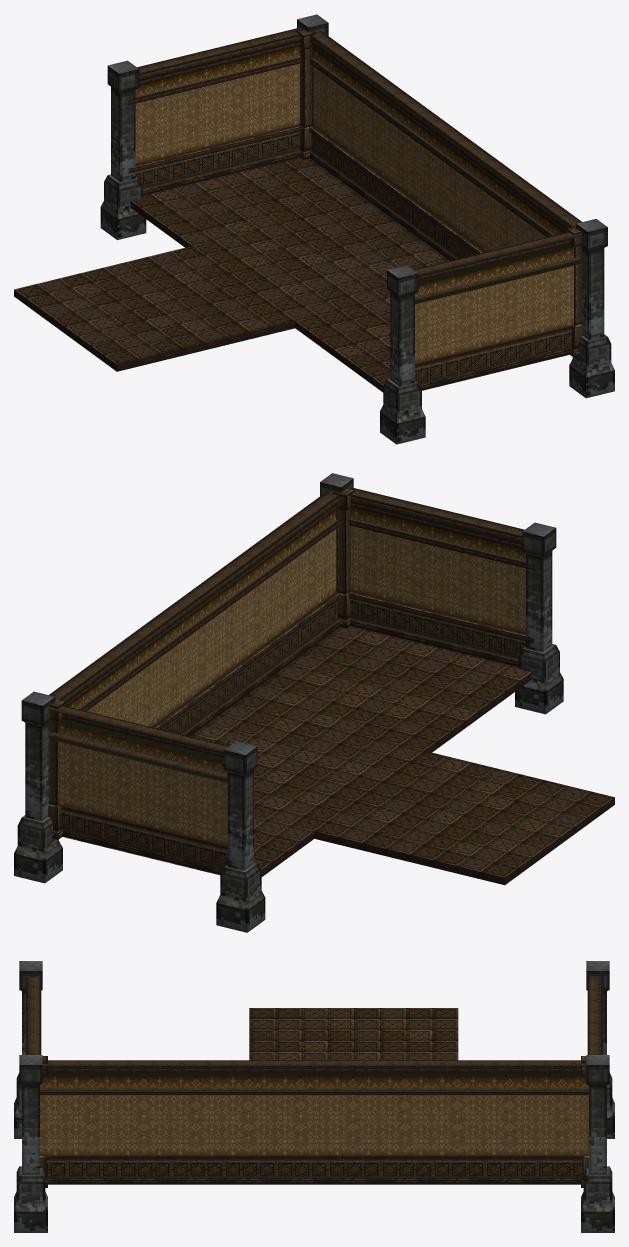
Rendered from EnvBdgMD_Snow_Mansion_A_Indoor_B.FBX.
3 renders of one model, top to bottom at view 1: azimuth 30°, elevation 25°; view 2: azimuth 150°, elevation 25°; view 3: azimuth 270°, elevation 25°, orthographic. The views are drawn at different scales.
Visible parts, largest first — view 1: EnvBdgMD_Snow_Mansion_A_Indoor_B; view 2: EnvBdgMD_Snow_Mansion_A_Indoor_B; view 3: EnvBdgMD_Snow_Mansion_A_Indoor_B.
Part boxes in pixels (x1=…): EnvBdgMD_Snow_Mansion_A_Indoor_B: x1=14, y1=14, x2=614, y2=444; EnvBdgMD_Snow_Mansion_A_Indoor_B: x1=14, y1=473, x2=614, y2=932; EnvBdgMD_Snow_Mansion_A_Indoor_B: x1=14, y1=961, x2=614, y2=1232.
Bounding box in the file's own units: 1715 × 700 × 2300.
2 materials, 2 textured.
